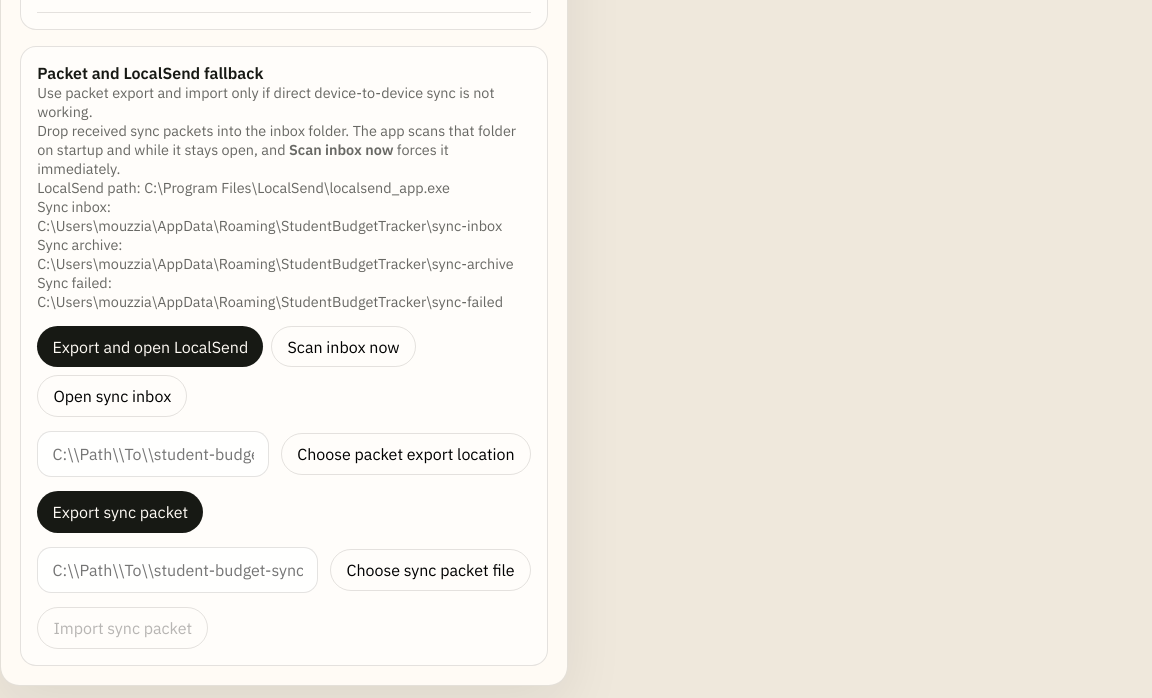
SettingsPage › exports a sync packet and opens LocalSend
The image size is (1152, 698).
(page scrolled)
Click the button "Export and open LocalSend".
click(150, 347)  # box [37,326,263,367]
(page scrolled)
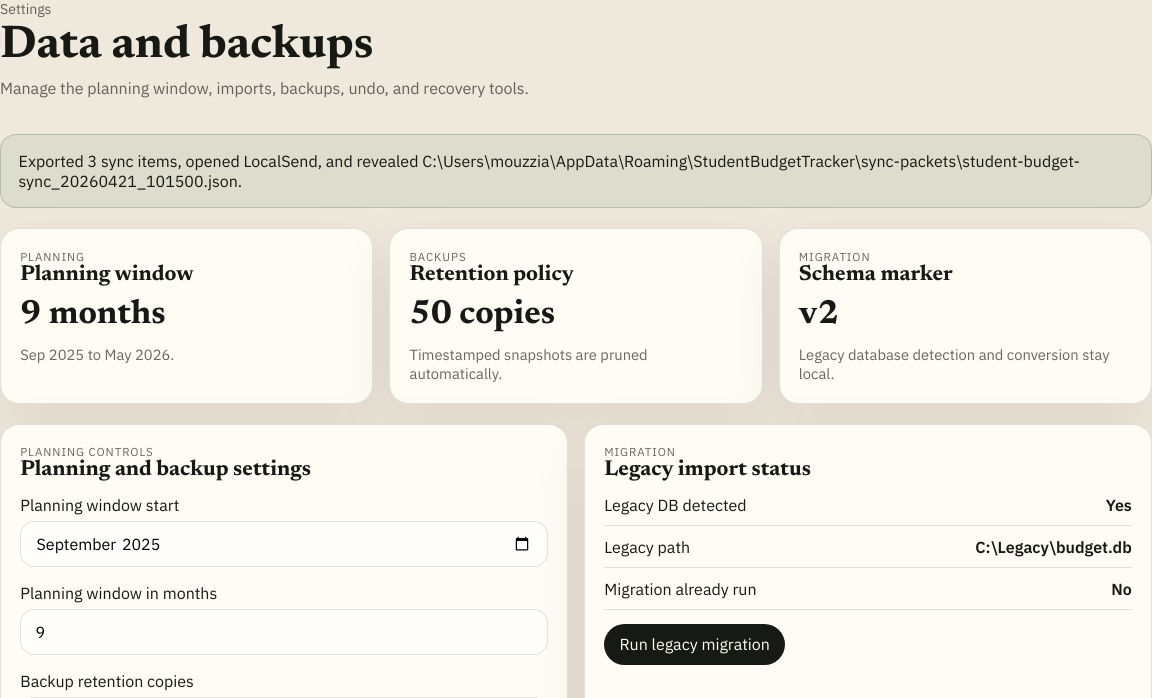
Now the text "Exported 3 sync items, opened LocalSend, and revealed" is shown, box [19,151,1080,191]
